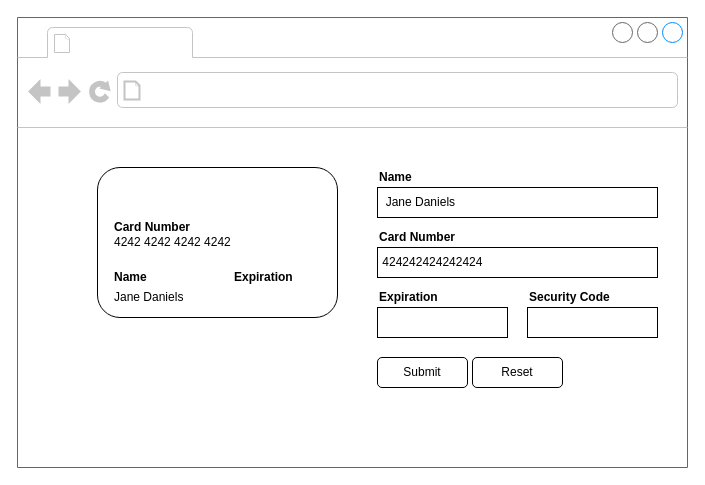
Some shapes in this 705 by 485 pixel diagram are drawn without their labels. The shapes that lost their labels are listed below. From the top down, each one's box as (x1, y1, x2, y2) in pixels, then its label:
(76, 28, 188, 56): Page 1
(146, 76, 398, 104): https://www.draw.io
